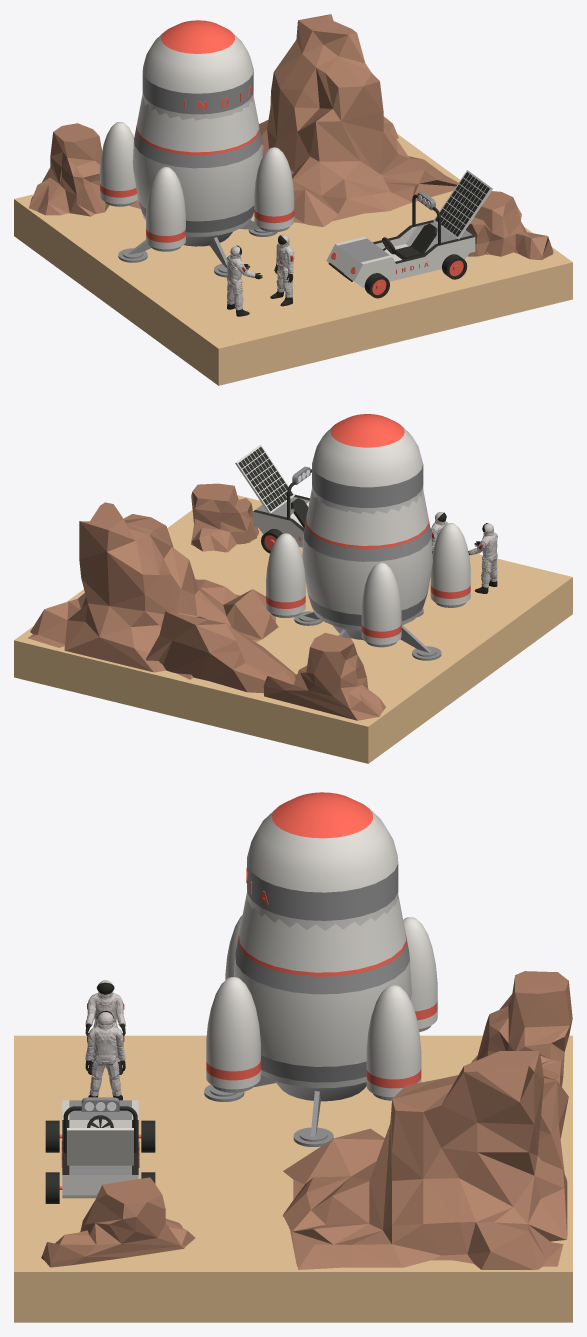
Rendered from 00 Space_8.FBX.
3 renders of one model, top to bottom at view 1: azimuth 30°, elevation 25°; view 2: azimuth 150°, elevation 25°; view 3: azimuth 270°, elevation 25°, orthographic. The views are drawn at different scales.
Parts seen in each view (by area): view 1: Base, space shuttle, Mountain_1, Buggy, Mountain_3, Mountain_4, Astronaut_2, Astronaut_1; view 2: Base, space shuttle, Mountain_1, Mountain_2, Mountain_3, Buggy, Mountain_4, Astronaut_2; view 3: Base, space shuttle, Mountain_1, Buggy, Mountain_4, Mountain_3, Astronaut_1, Mountain_2, Astronaut_2.
Part boxes in pixels (x1=…): Base: x1=14, y1=134, x2=572, y2=385; space shuttle: x1=100, y1=20, x2=294, y2=277; Mountain_1: x1=259, y1=14, x2=458, y2=226; Buggy: x1=326, y1=170, x2=492, y2=298; Mountain_3: x1=29, y1=123, x2=140, y2=216; Mountain_4: x1=466, y1=191, x2=553, y2=260; Astronaut_2: x1=226, y1=245, x2=262, y2=316; Astronaut_1: x1=270, y1=234, x2=294, y2=306; Base: x1=14, y1=495, x2=572, y2=763; space shuttle: x1=266, y1=414, x2=470, y2=660; Mountain_1: x1=28, y1=502, x2=278, y2=679; Mountain_2: x1=145, y1=611, x2=295, y2=693; Mountain_3: x1=263, y1=632, x2=385, y2=720; Buggy: x1=235, y1=445, x2=311, y2=553; Mountain_4: x1=191, y1=483, x2=258, y2=552; Astronaut_2: x1=468, y1=523, x2=497, y2=593; Base: x1=14, y1=1035, x2=572, y2=1322; space shuttle: x1=204, y1=792, x2=437, y2=1146; Mountain_1: x1=282, y1=1051, x2=567, y2=1269; Buggy: x1=45, y1=1097, x2=155, y2=1203; Mountain_4: x1=41, y1=1177, x2=195, y2=1267; Mountain_3: x1=471, y1=971, x2=572, y2=1086; Astronaut_1: x1=85, y1=1011, x2=125, y2=1100; Mountain_2: x1=538, y1=1076, x2=568, y2=1172; Astronaut_2: x1=85, y1=980, x2=125, y2=1074.
Bounding box in the file's own units: 10000 × 6879 × 10000.
